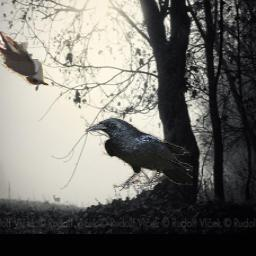Crow: (85, 117, 193, 191)
Cuckoo: (0, 18, 50, 87)
